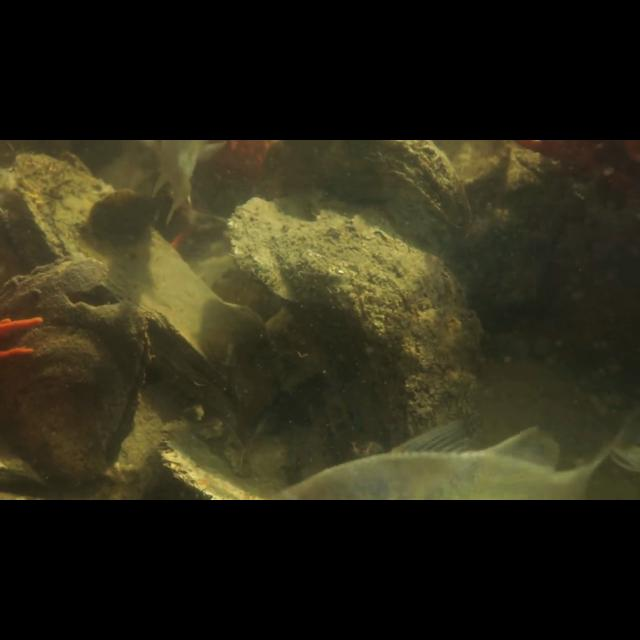Oyster-Closed: (219, 194, 498, 434), (0, 254, 154, 500)
